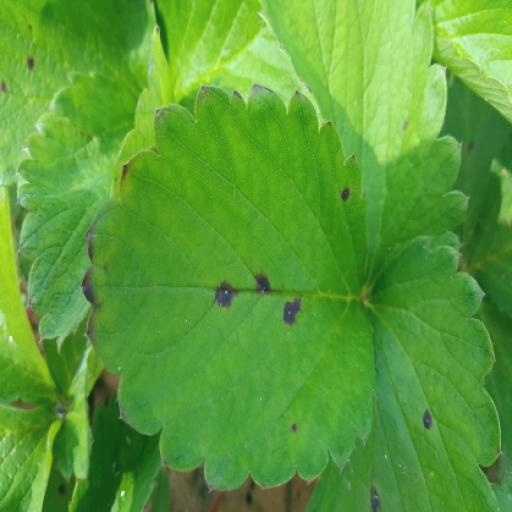Leaf Spot: (133, 83, 434, 491), (42, 0, 253, 291), (9, 234, 208, 511), (359, 0, 511, 187), (3, 74, 73, 265), (437, 461, 468, 511)
